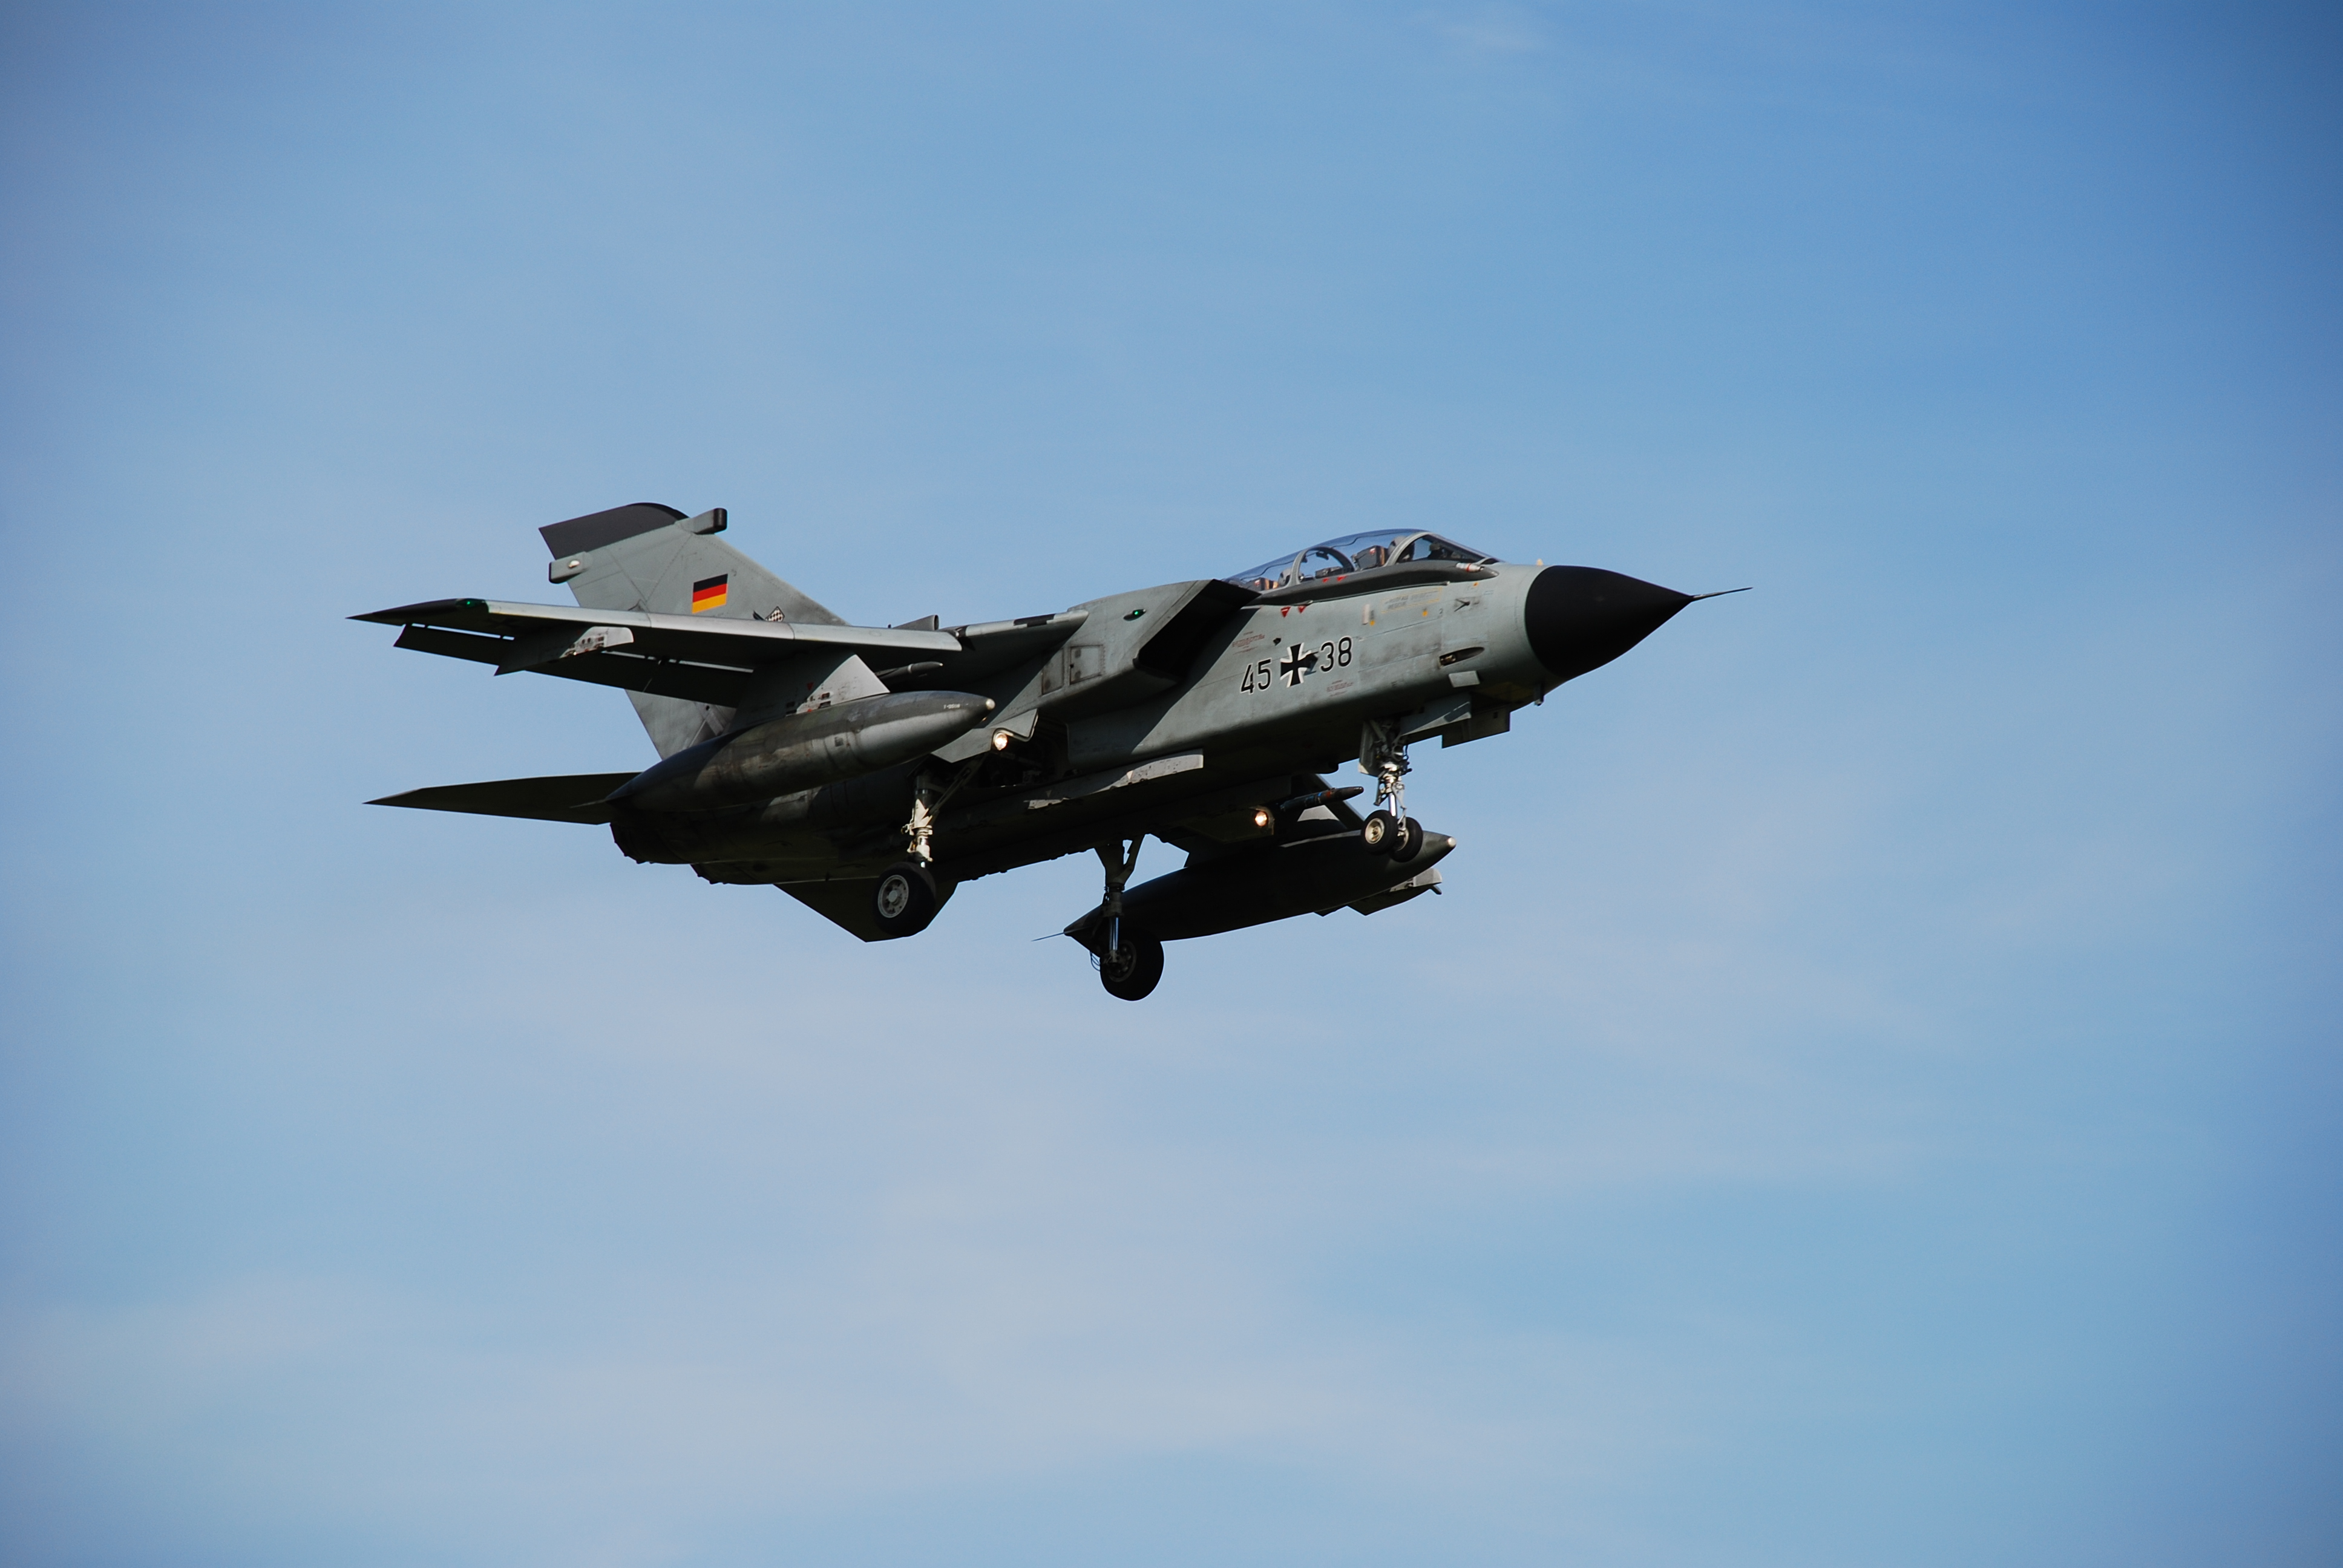Tornado: (343, 502, 1753, 1001)
